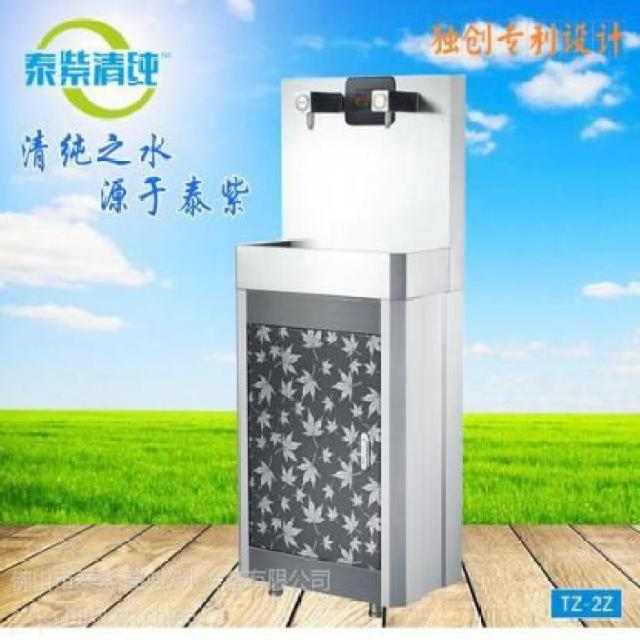cooler: (235, 68, 471, 618)
